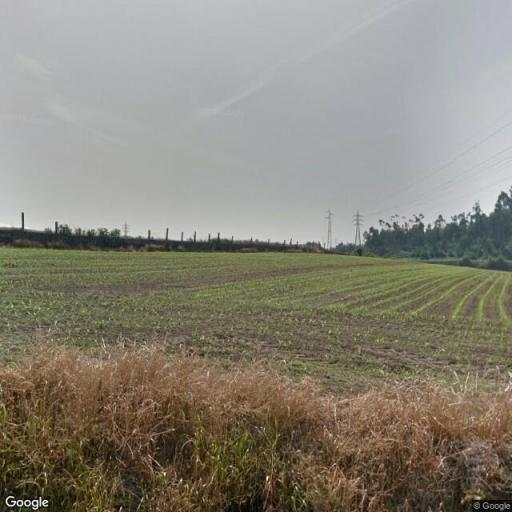ss_3: (351, 210, 365, 248)
ss_4: (325, 207, 334, 250)
